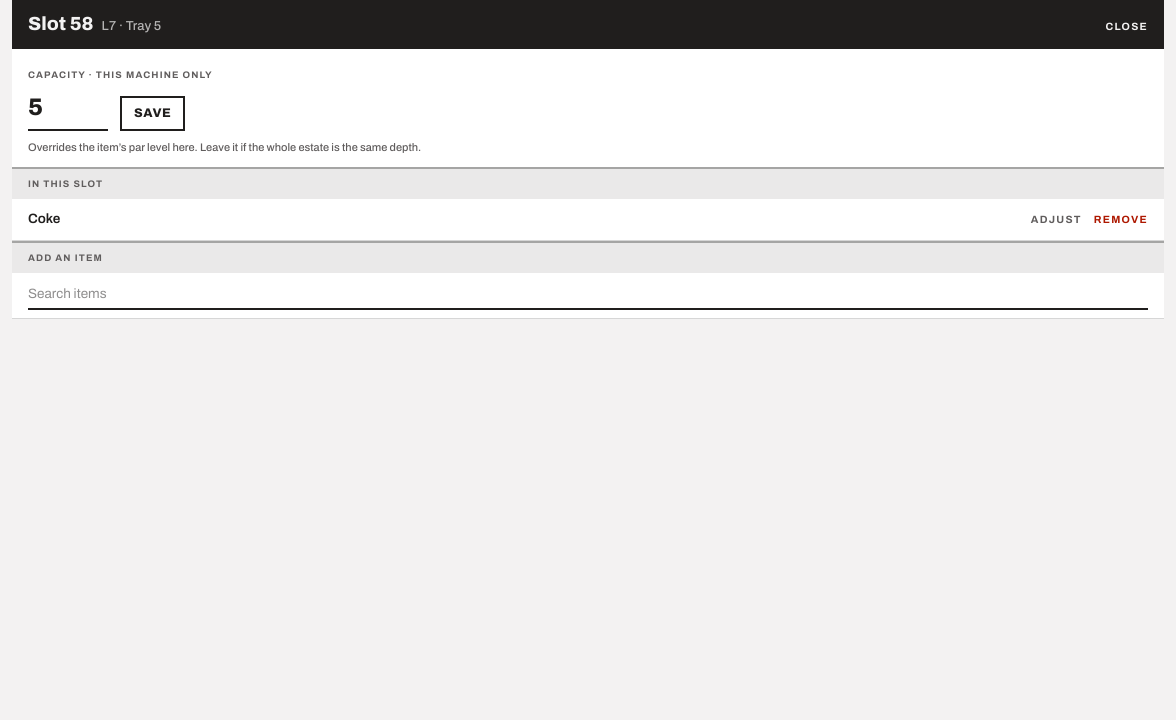
Scenario: SlotEditSheet › withholds transfer at a slot while that machine's visit is open
What coordinates should you click on to do the following:
click the button with aria-label "Adjust Coke"
I would click on:
 (1056, 219)
Its box is [1031,212,1082,227].
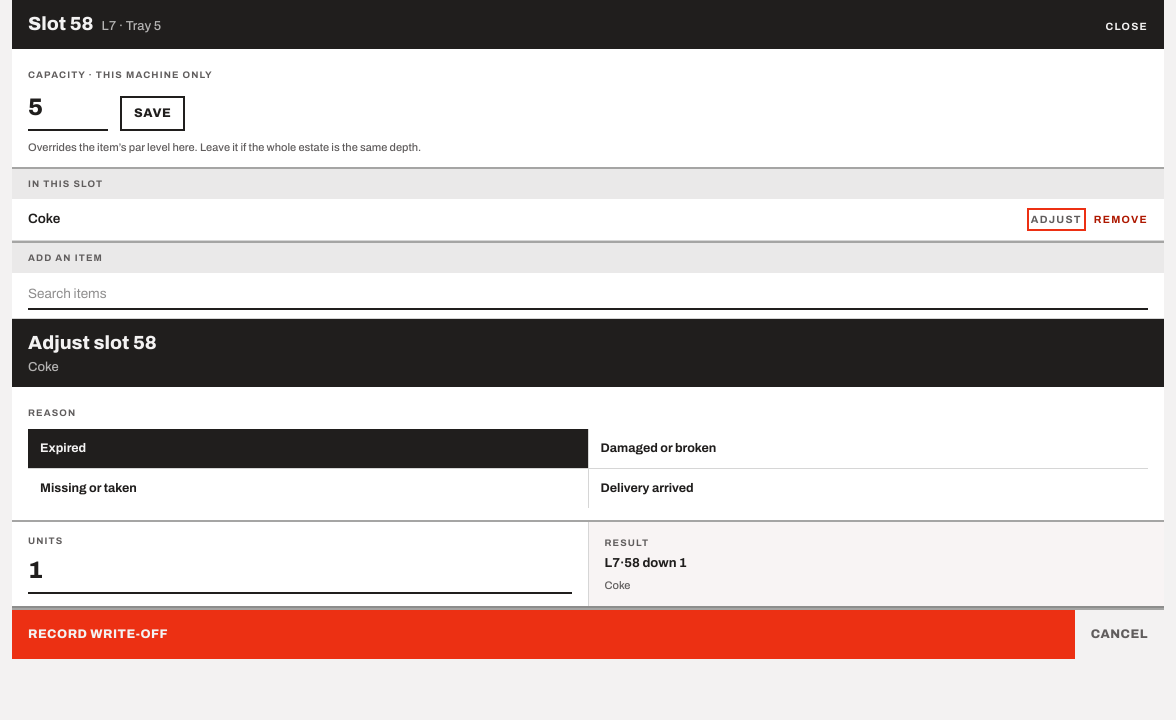
Result: the number field labelled "Units" is shown at [28,552,572,594]
Result: the button "Missing or taken" is shown at [28,469,588,508]
